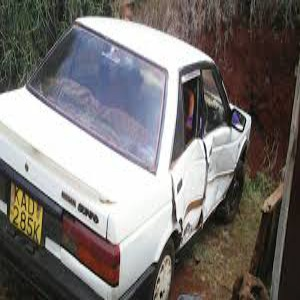door: (177, 150, 236, 221)
